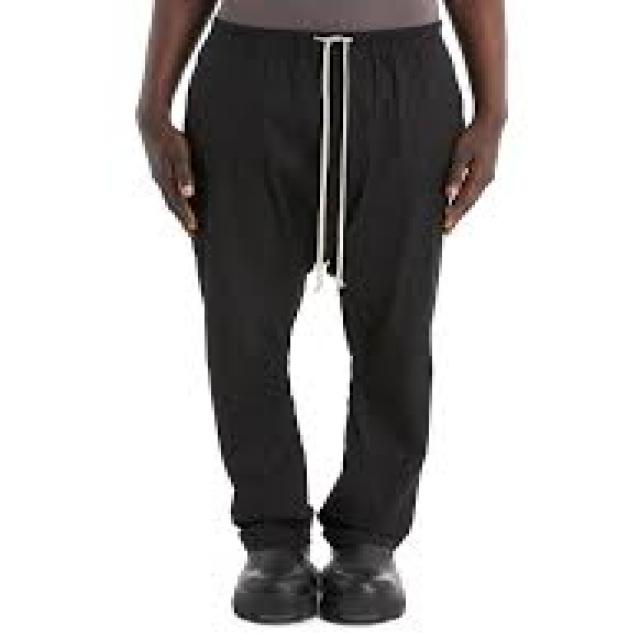long-pants: (186, 18, 465, 550)
